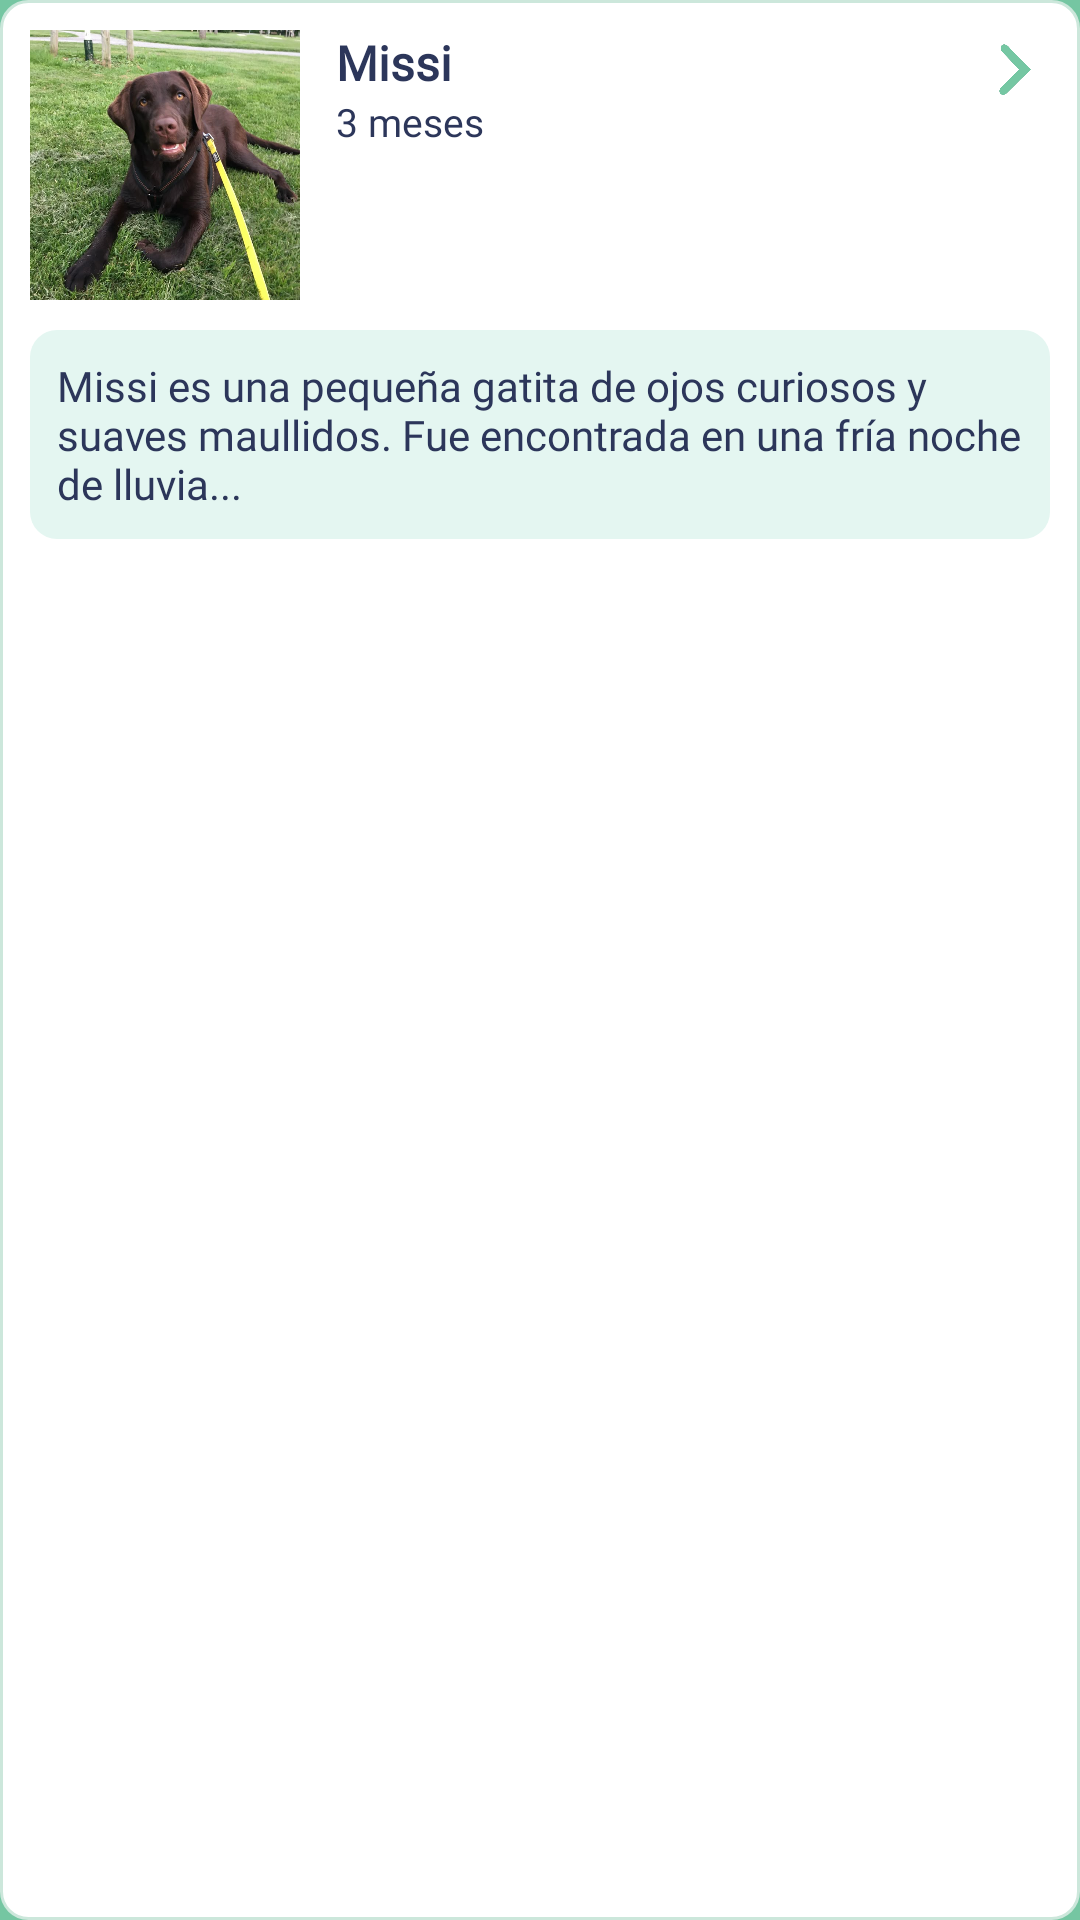

Named icons in this screenshot (1080*1920) and their centers, (x=x, y=y):
Foto de mascota: (x=165, y=165)
Ver más: (x=1015, y=69)
